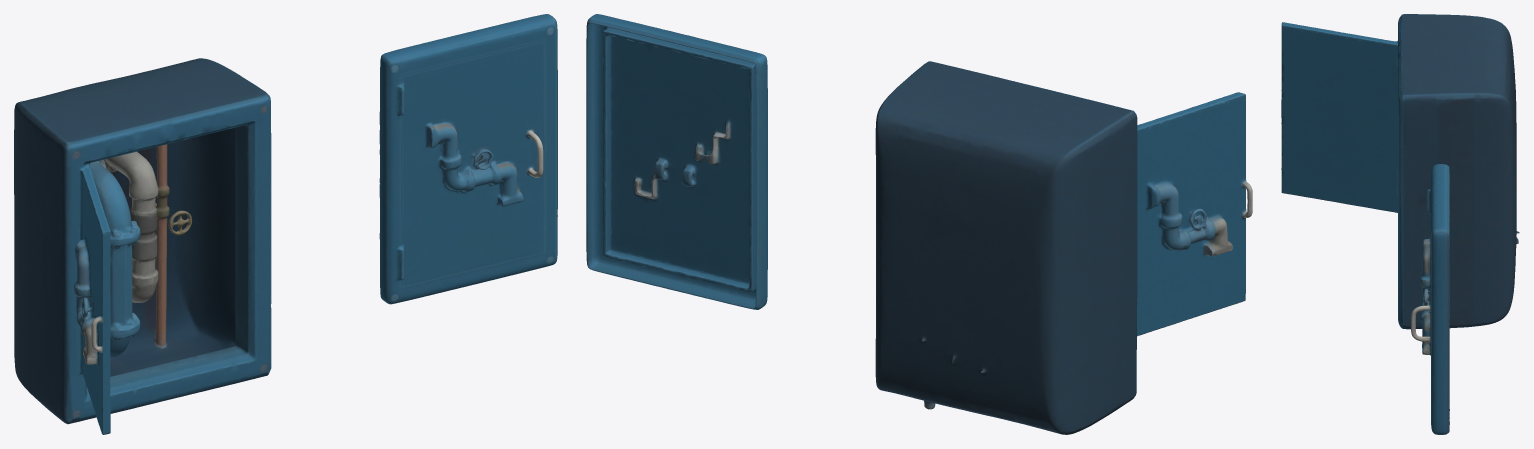
Rendered from CompuertaAzulTuberias.glb.
The picture shows the model from 3 angles, left to right: view 1: azimuth 30°, elevation 25°; view 2: azimuth 150°, elevation 25°; view 3: azimuth 270°, elevation 25°; orthographic projection. The views are drawn at different scales.
Bounding box in the file's own units: 1.9 × 0.9385 × 0.8477.
1 material, 1 textured.
